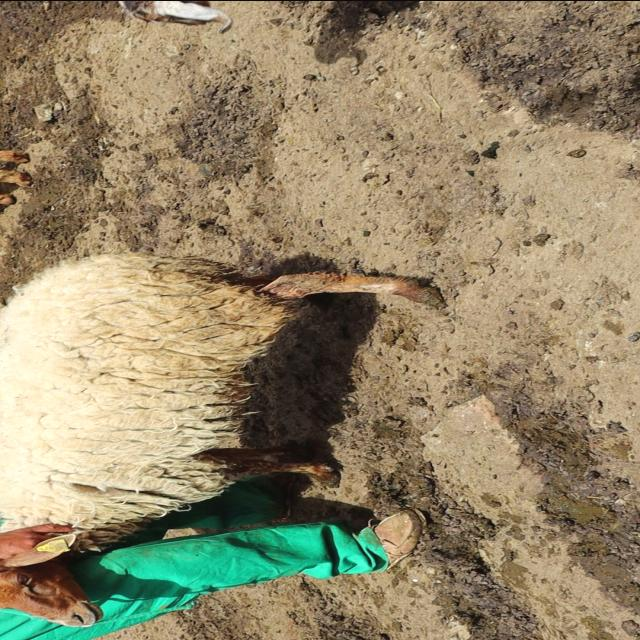Score_4: (0, 252, 440, 626)
